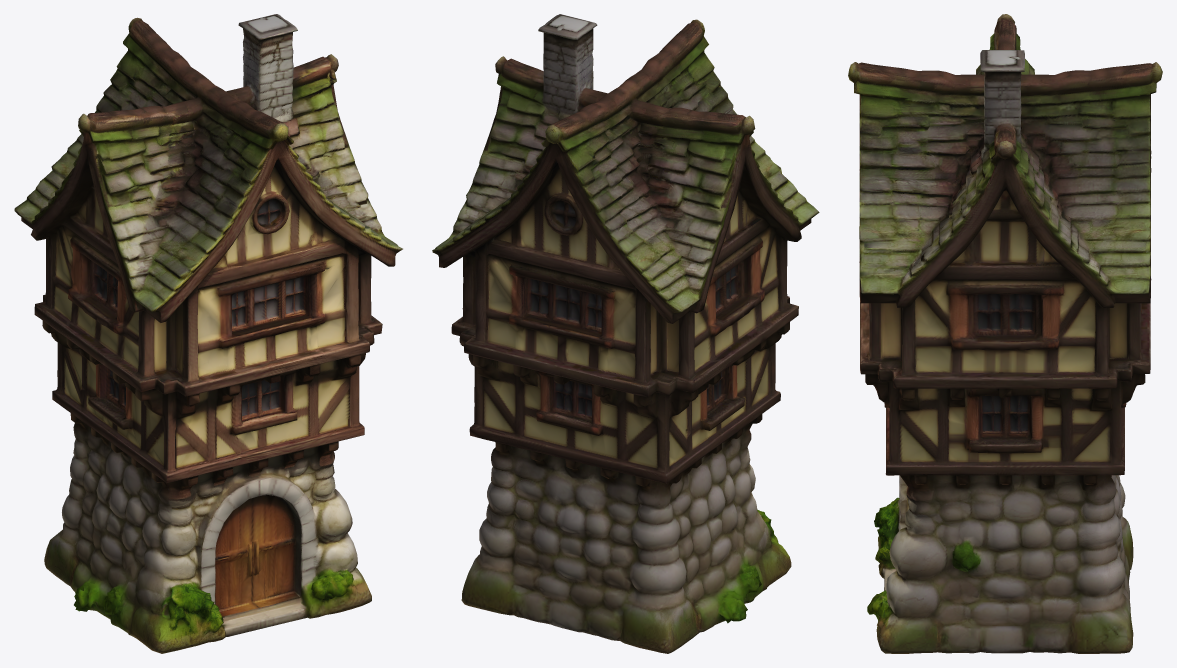
File: meshy_ai_timberstone_tow_1780332210503.glb
The picture shows the model from 3 angles, left to right: view 1: azimuth 30°, elevation 25°; view 2: azimuth 150°, elevation 25°; view 3: azimuth 270°, elevation 25°; orthographic projection. The views are drawn at different scales.
Bounding box in the file's own units: 0.9393 × 1.91 × 0.9497.
Materials: 1 (1 with a texture image).
